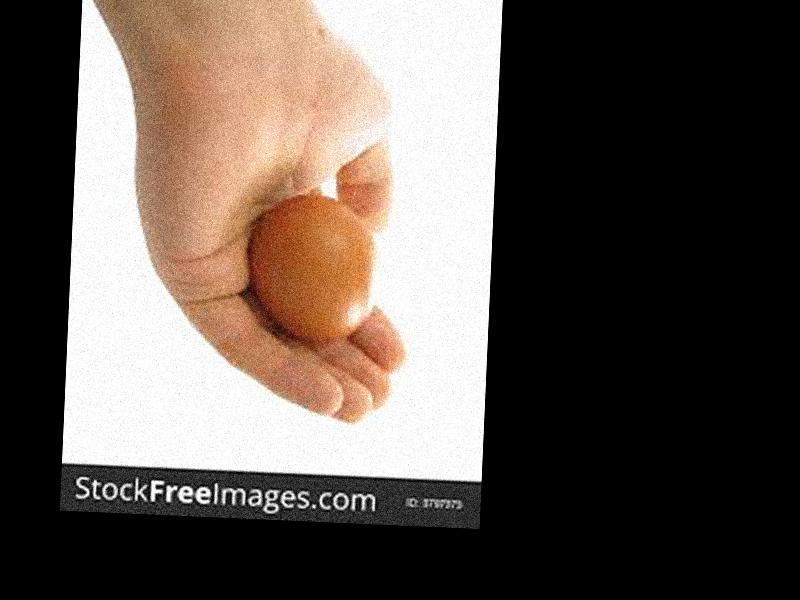Eggs: (249, 191, 379, 354)
